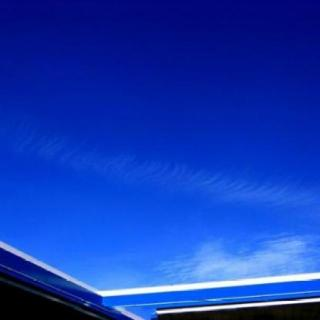Cirrus: (0, 2, 320, 292)
